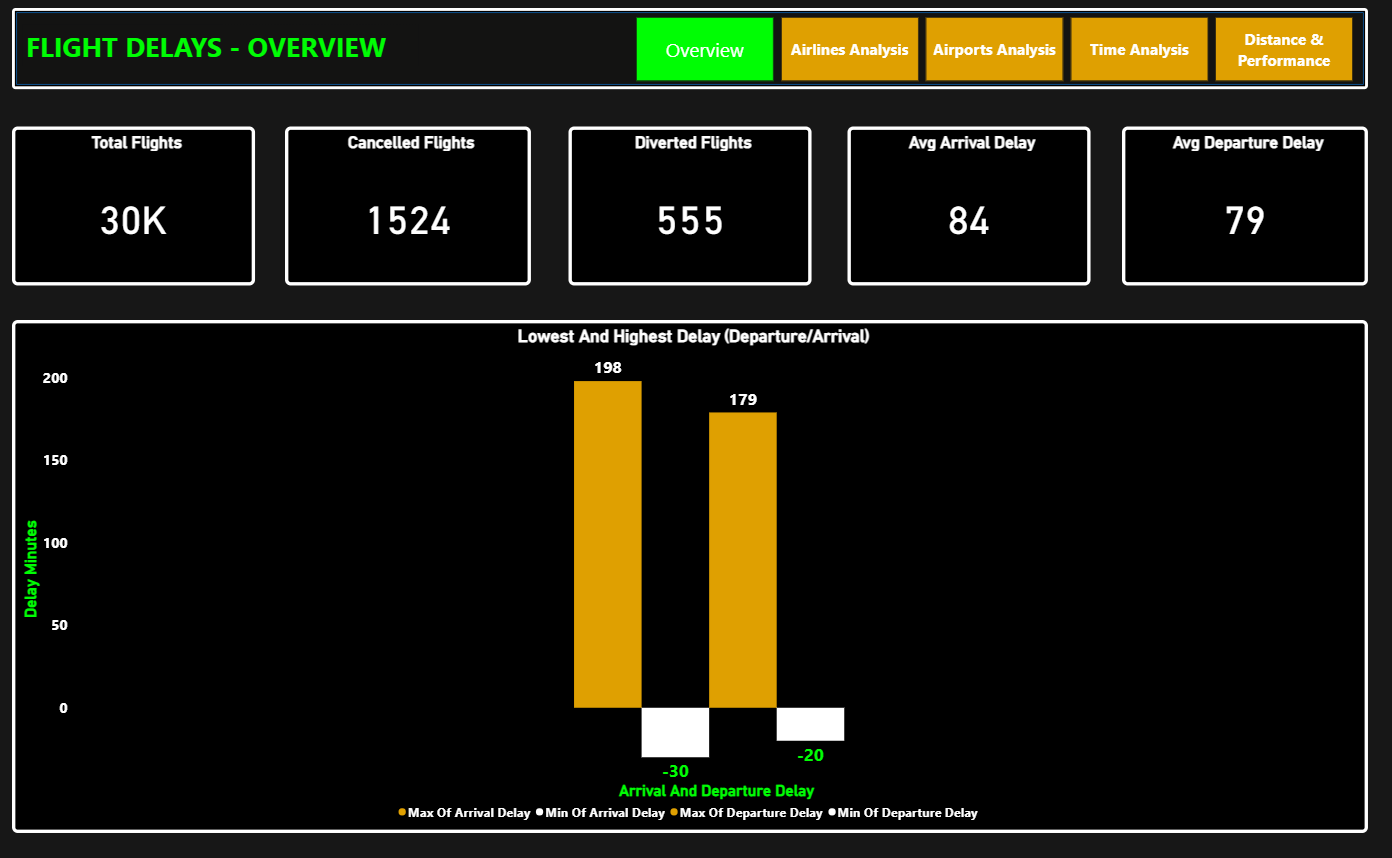

Layout of this report page (visuals, bound fields, positions):
{"tool":"powerbi","page":{"name":"Overview","canvas":[1960,1220],"ordinal":0},"visuals":[{"type":"card","title":"Total Flights","fields":{"Values":["Sum(total_delays.total_flights)"]},"box":[29.1,185.3,337.3,220.7],"z":0},{"type":"card","title":"Avg Departure Delay","fields":{"Values":["Sum(avg_dep_delay.avg_dep_delay)"]},"box":[1569.8,185.3,341.4,220.7],"z":1000},{"type":"card","title":"Avg Arrival Delay","fields":{"Values":["Sum(avg_arr_delay.avg_arr_delay)"]},"box":[1188.8,185.3,337.3,220.7],"z":2000},{"type":"card","title":"Cancelled Flights","fields":{"Values":["Sum(total_flights_cancelled_flights.cancelled_flights)"]},"box":[408.1,185.3,341.4,220.7],"z":3000},{"type":"card","title":"Diverted Flights","fields":{"Values":["Sum(total_flights_diverted_flights.diverted_flights)"]},"box":[801.5,185.3,337.3,220.7],"z":4000},{"type":"shape","box":[29.1,20.8,1882,112.4],"z":5000},{"type":"textbox","box":[43.7,43.7,549.6,68.7],"z":6000},{"type":"pageNavigator","box":[895.2,33.3,999.3,89.5],"z":7000},{"type":"clusteredColumnChart","title":"Lowest And Highest Delay (Departure/Arrival)","fields":{"Y":["Max(min_max_dep_arr_delay (2).max_arr_delay)","Min(min_max_dep_arr_delay (2).min_arr_delay)","Max(min_max_dep_arr_delay (2).max_dep_delay)","Min(min_max_dep_arr_delay (2).min_dep_delay)"]},"box":[29.1,453.9,1882,712],"z":8000}]}

Visuals, with their boxes in screenshot pixels (x1, y1, x2, y2), scaled from the page's 1960x1220 canvas onto the 1392x858 screenshot:
"Total Flights" card: (x1=21, y1=130, x2=260, y2=286)
"Avg Departure Delay" card: (x1=1115, y1=130, x2=1357, y2=286)
"Avg Arrival Delay" card: (x1=844, y1=130, x2=1084, y2=286)
"Cancelled Flights" card: (x1=290, y1=130, x2=532, y2=286)
"Diverted Flights" card: (x1=569, y1=130, x2=809, y2=286)
shape: (x1=21, y1=15, x2=1357, y2=94)
textbox: (x1=31, y1=31, x2=421, y2=79)
pageNavigator: (x1=636, y1=23, x2=1345, y2=86)
"Lowest And Highest Delay (Departure/Arrival)" clusteredColumnChart: (x1=21, y1=319, x2=1357, y2=820)
